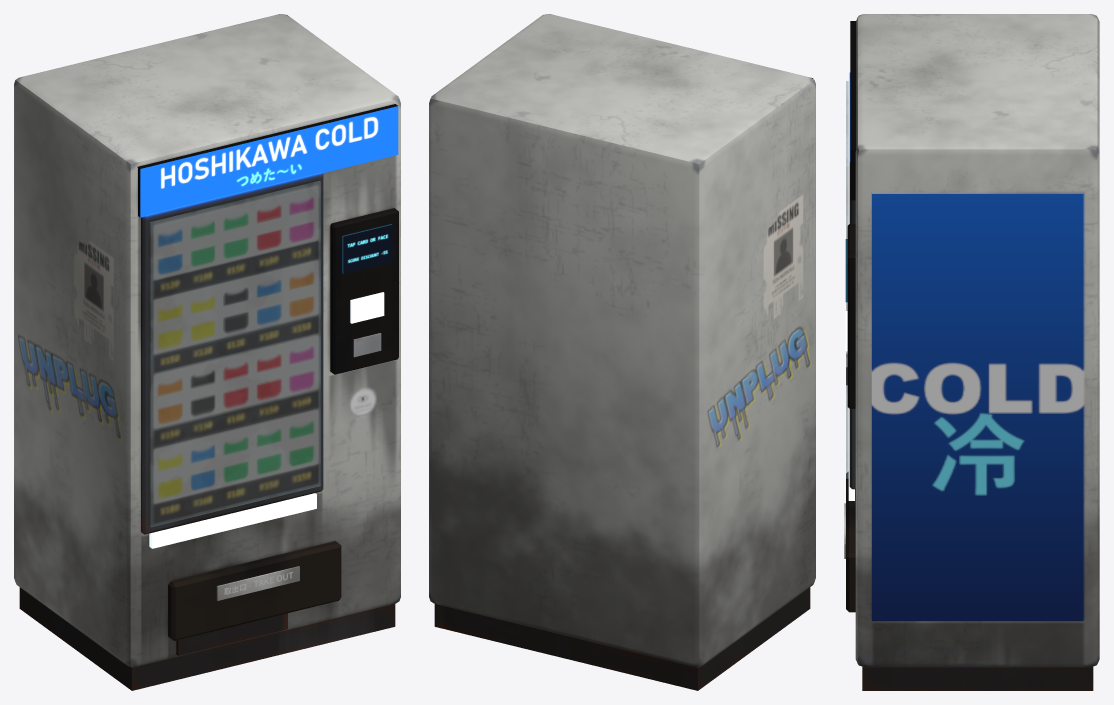
Rendered from vending_machine.glb.
The picture shows the model from 3 angles, left to right: view 1: azimuth 30°, elevation 25°; view 2: azimuth 150°, elevation 25°; view 3: azimuth 270°, elevation 25°; orthographic projection. The views are drawn at different scales.
Visible parts, largest first — view 1: vending_machine; view 2: vending_machine; view 3: vending_machine.
Boxes of the visible parts, x1,y1,x2,y2 form: vending_machine: [14, 14, 400, 690]; vending_machine: [429, 14, 815, 690]; vending_machine: [844, 14, 1099, 690].
Size of what is drawn, in the model's own units: 1.01 by 1.85 by 0.785.
Materials: 1 (1 with a texture image).
